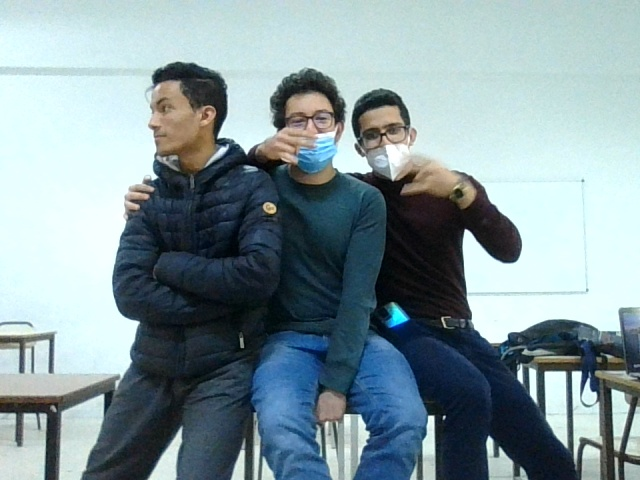mask_weared_incorrect: (270, 72, 352, 172), (354, 95, 433, 183)
without_mask: (126, 58, 230, 165)
